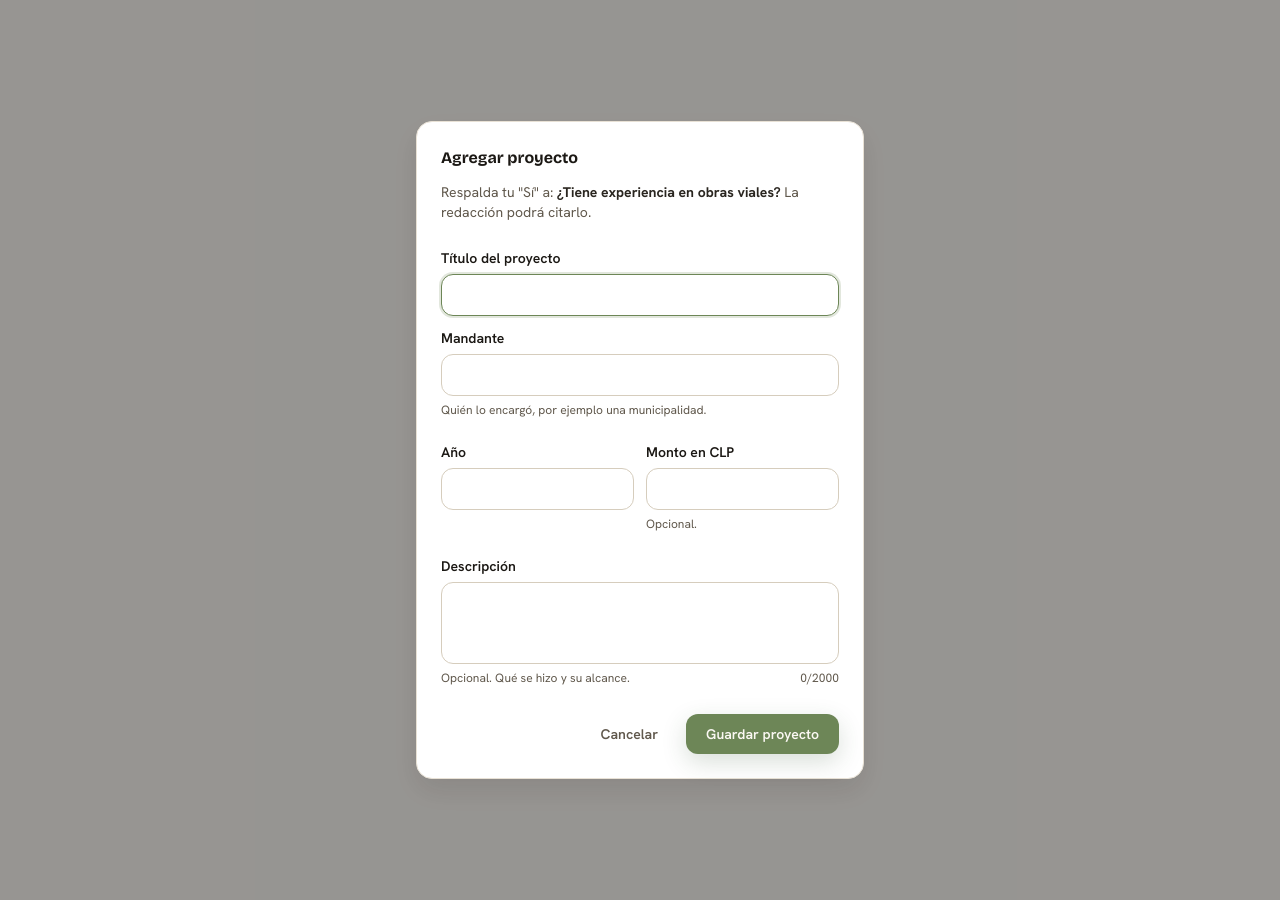
Scenario: EvidenceForm › un 409 se muestra en el formulario y no lo cierra
Step 1. Type "Bacheo" into the field labelled "Título del proyecto" → [640, 295], box [441,274,839,316]
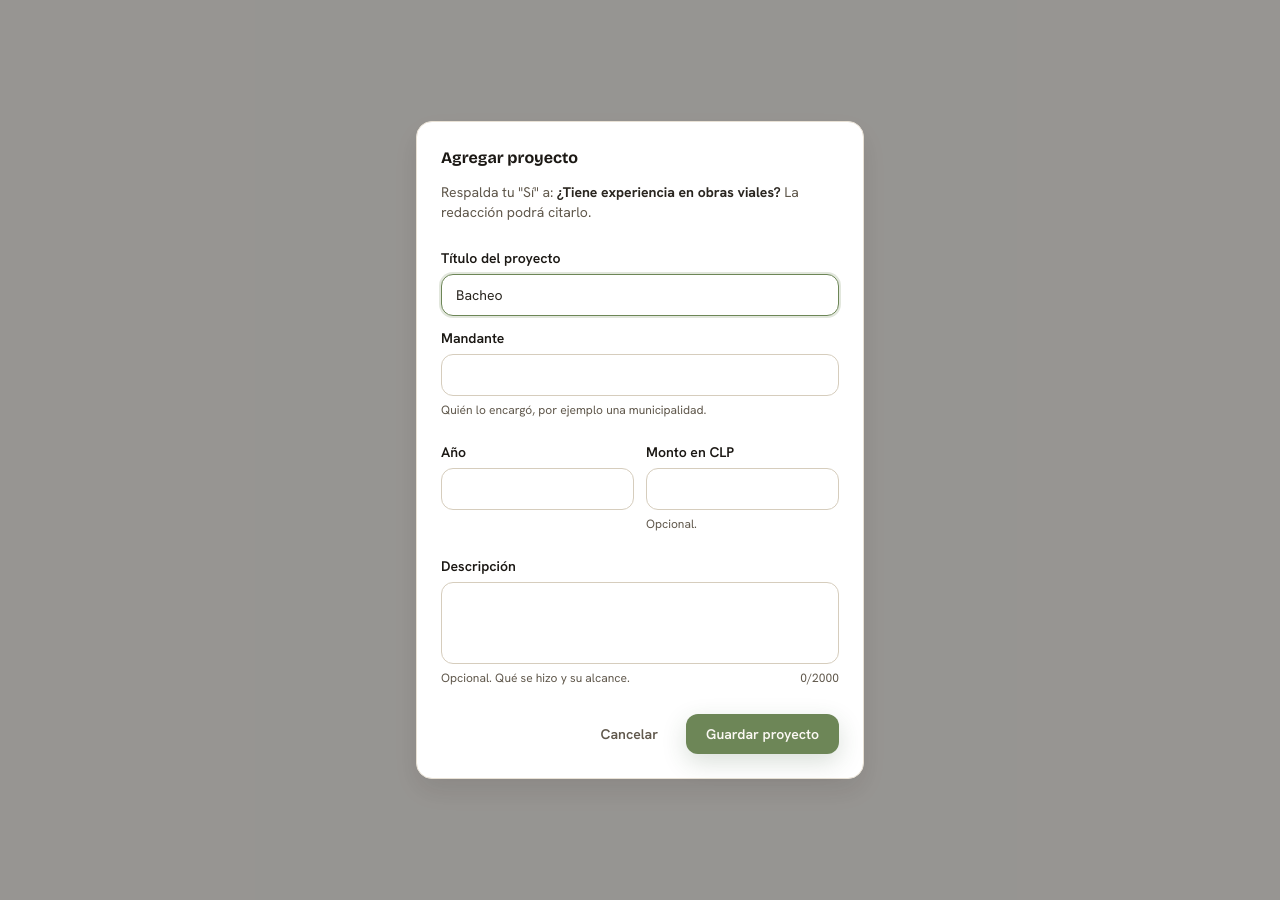
Step 2. Type "Serviu" into the field labelled "Mandante" → [640, 375], box [441,354,839,396]
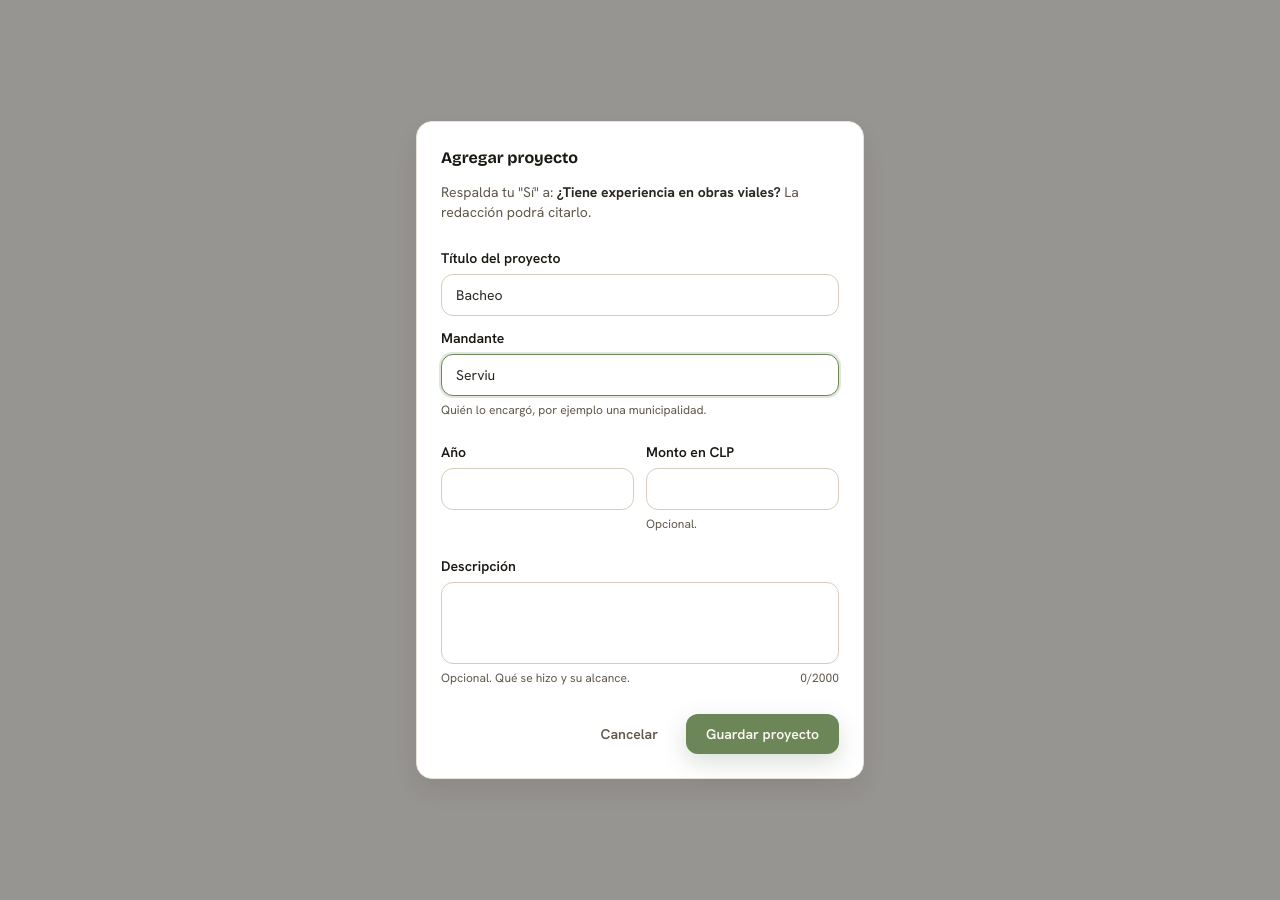
Step 3. Type "2023" into the field labelled "Año" → [538, 489], box [441,468,634,510]
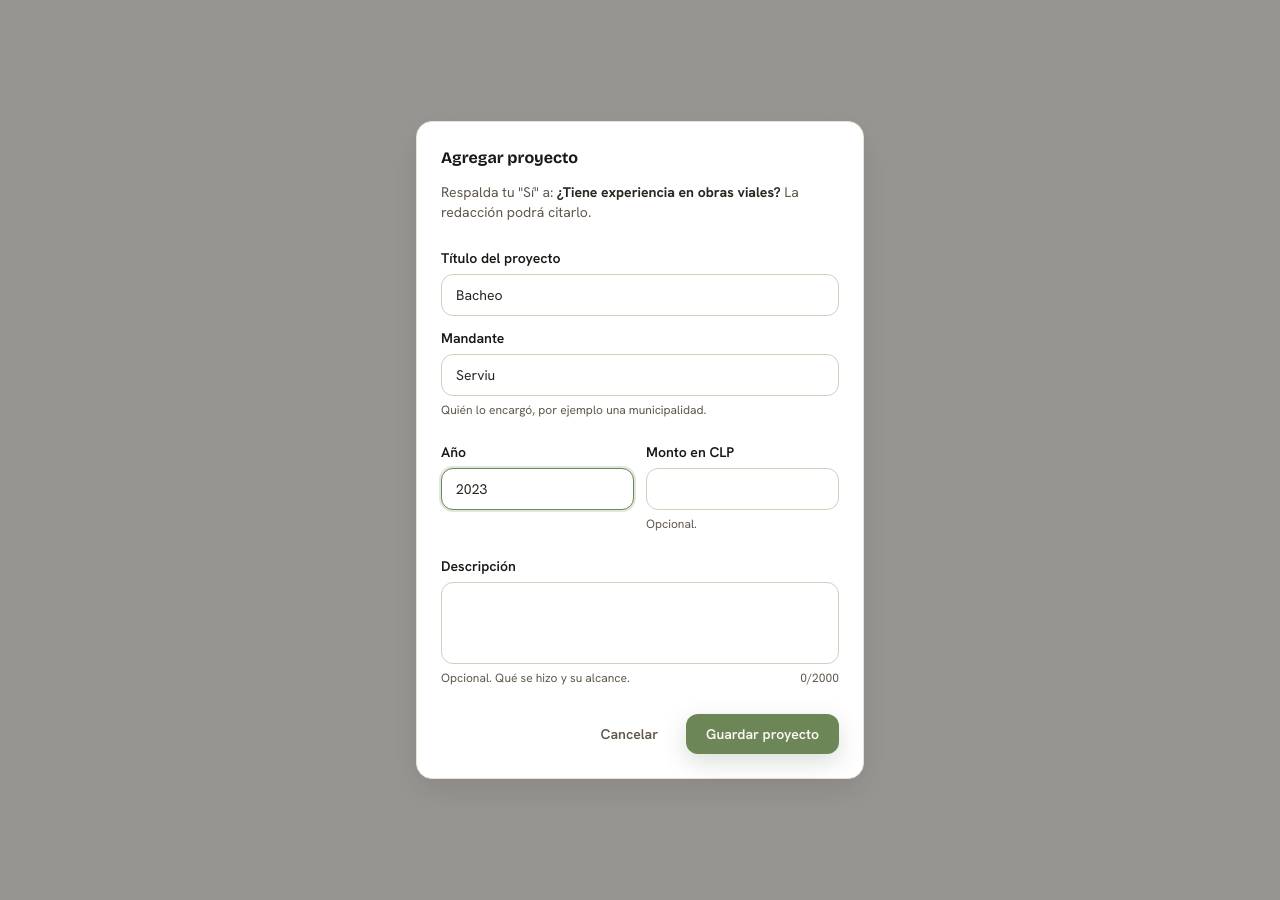
Step 4. Click the button "Guardar proyecto" → [763, 734], box [686,714,839,754]
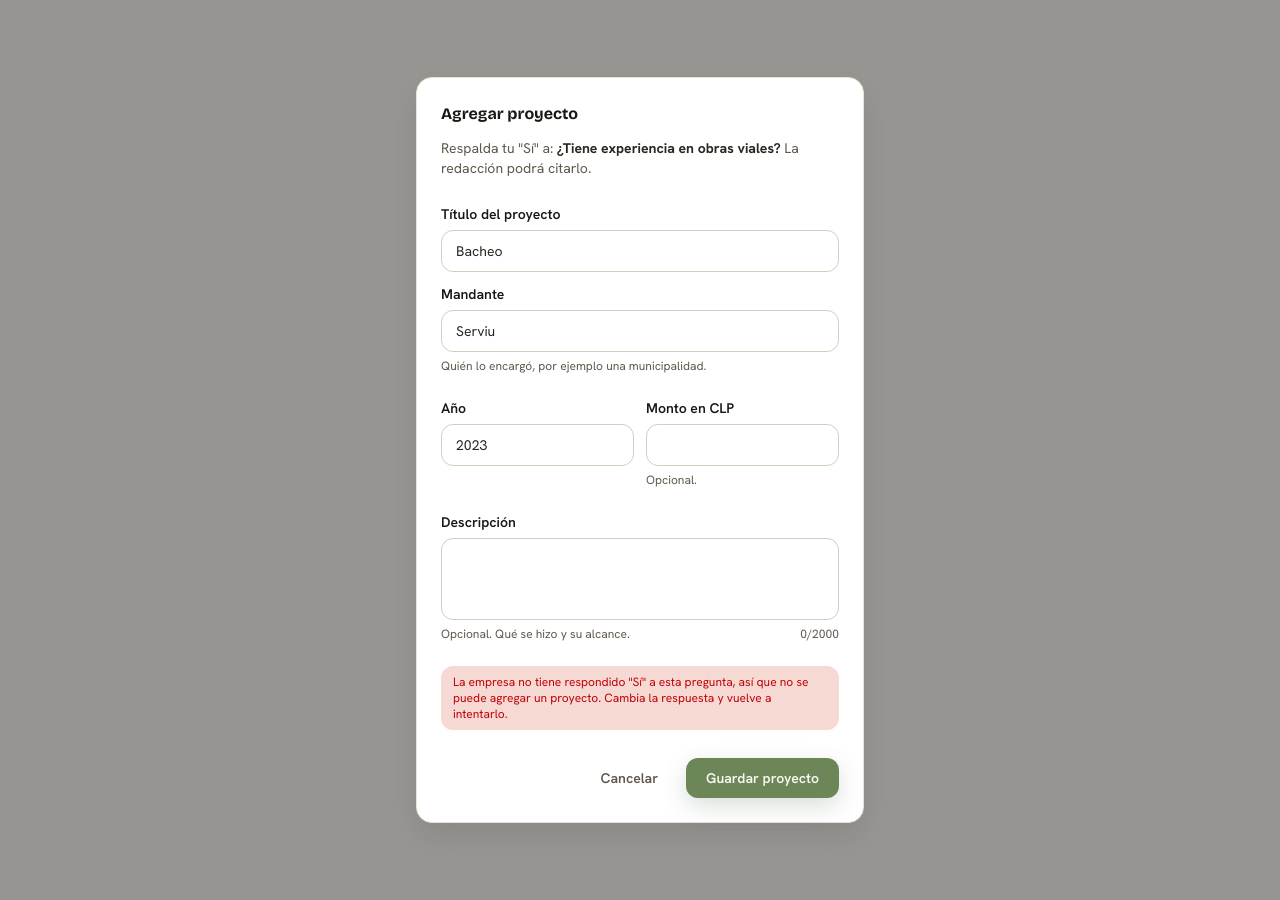
Check: the message shows "respondido \"Sí\"", box [453,674,808,722]
